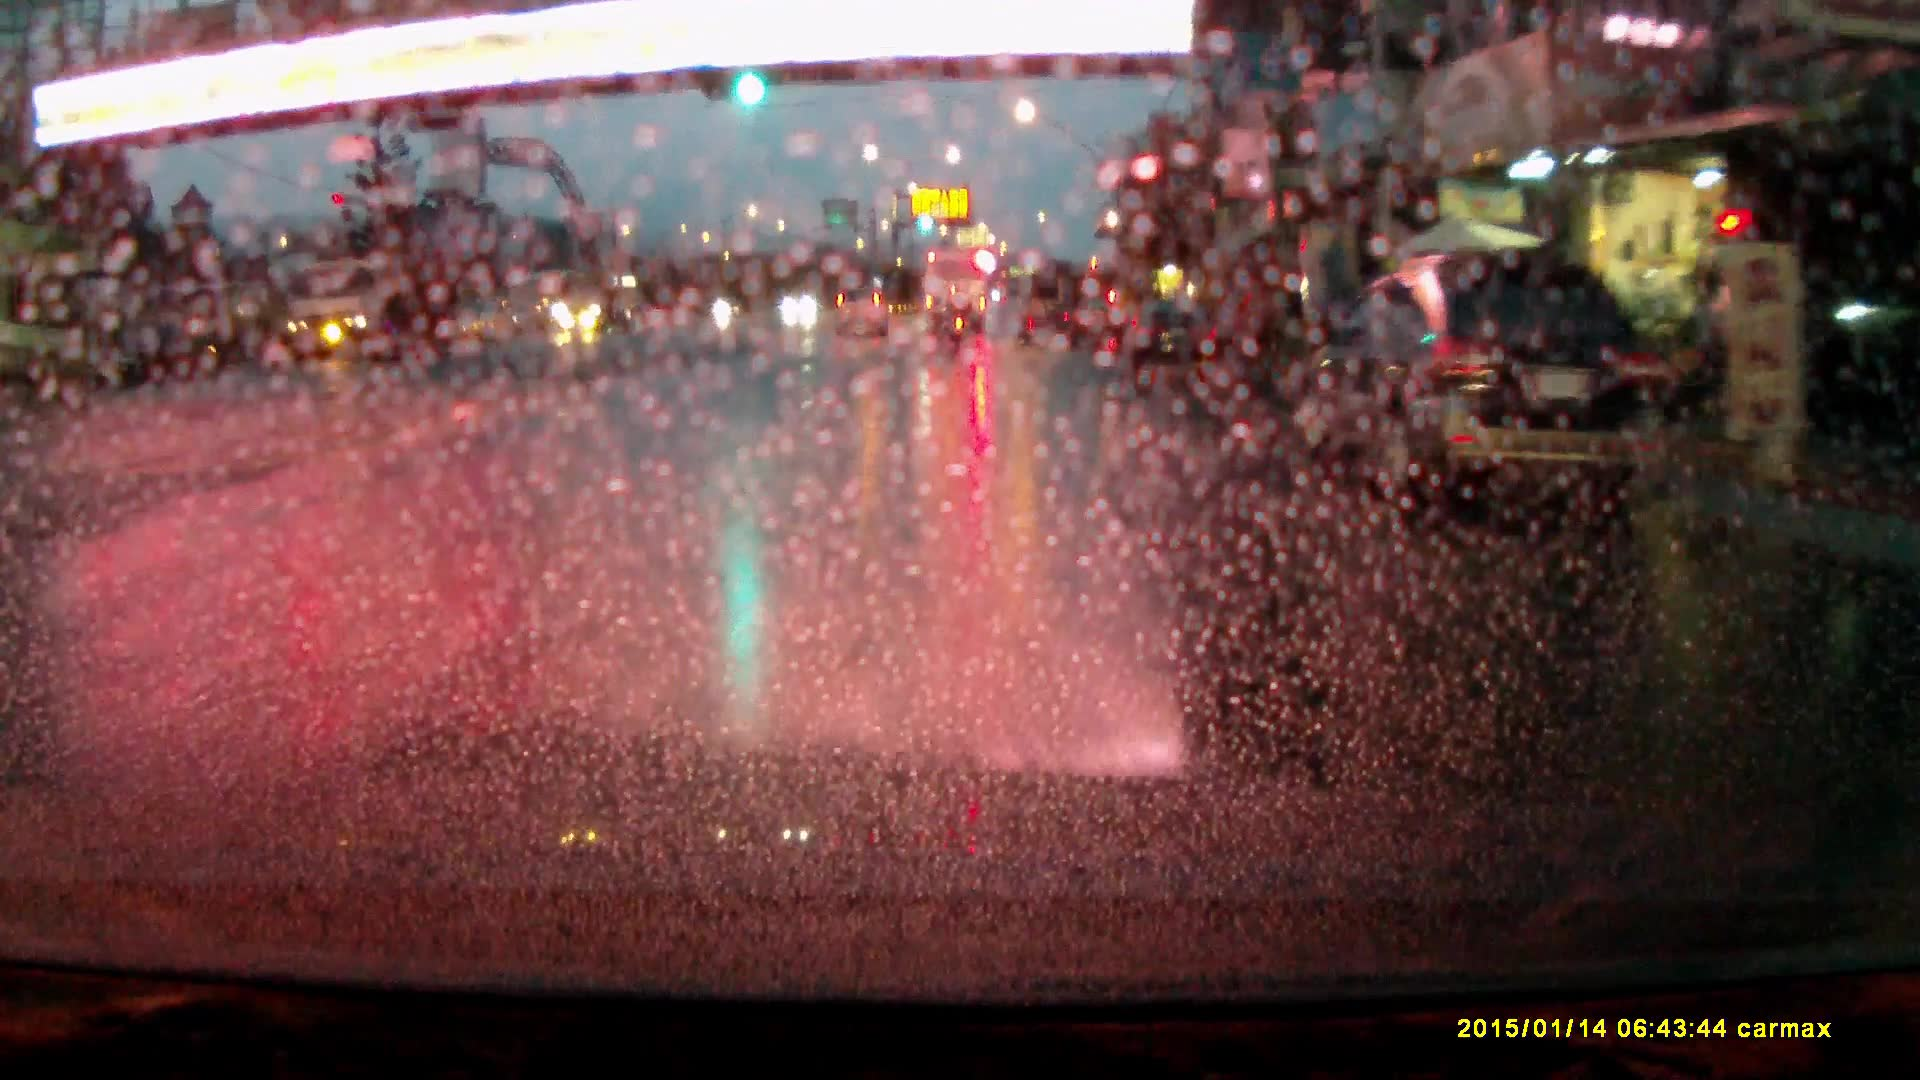rider: (947, 294, 971, 349)
vehicle: (1298, 251, 1692, 508), (279, 265, 449, 365), (1120, 299, 1222, 382), (919, 250, 989, 338), (551, 275, 646, 336), (1063, 301, 1131, 354), (831, 274, 888, 321)
